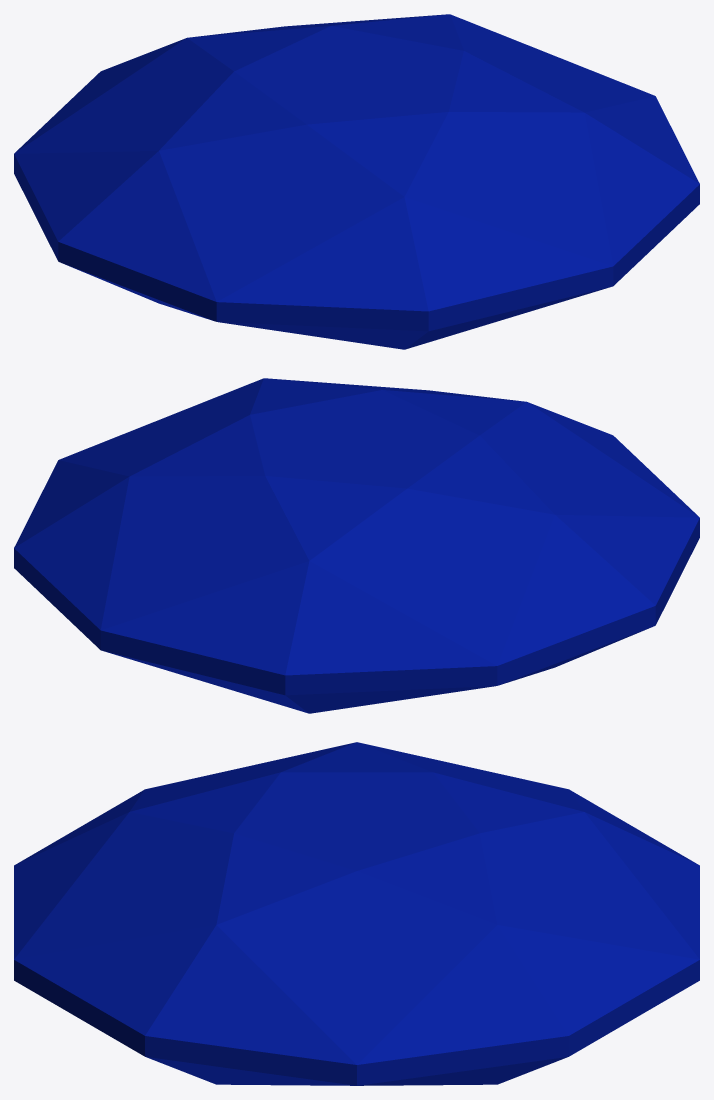
File: Gem_03.glb
3 renders of one model, top to bottom at view 1: azimuth 30°, elevation 25°; view 2: azimuth 150°, elevation 25°; view 3: azimuth 270°, elevation 25°, orthographic. The views are drawn at different scales.
Visible parts, largest first — view 1: Gem_03; view 2: Gem_03; view 3: Gem_03.
Boxes of the visible parts, x1,y1,x2,y2 form: Gem_03: [14, 14, 699, 349]; Gem_03: [14, 378, 699, 713]; Gem_03: [14, 742, 699, 1085].
Bounding box in the file's own units: 0.1011 × 0.033 × 0.0962.
